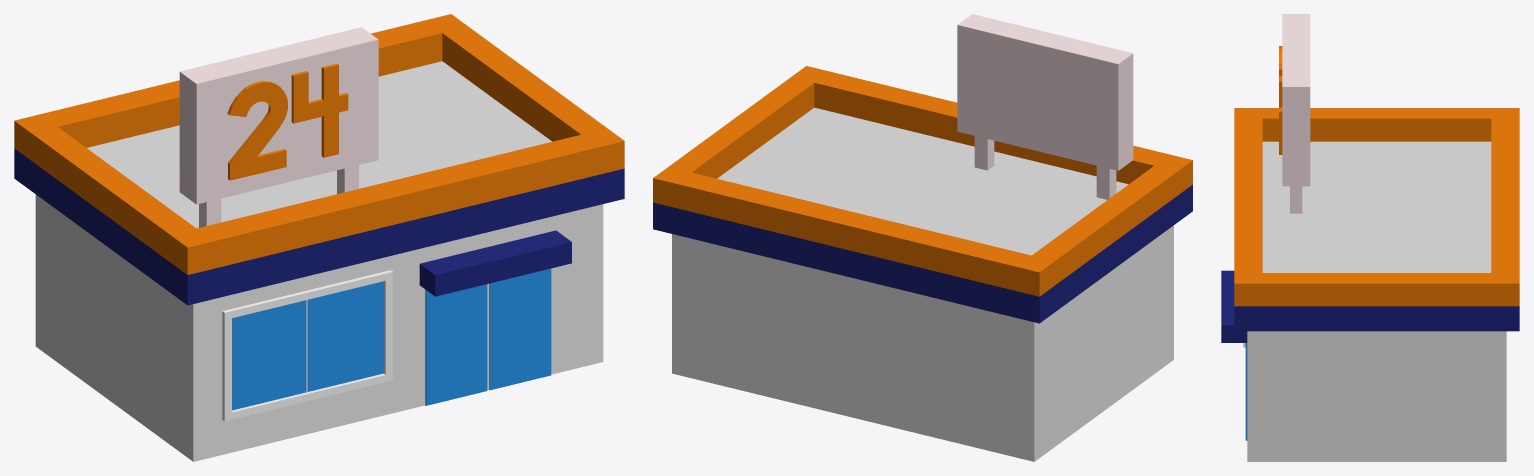
Rendered from convenience_store.gltf.
3 renders of one model, left to right at view 1: azimuth 30°, elevation 25°; view 2: azimuth 150°, elevation 25°; view 3: azimuth 270°, elevation 25°, orthographic. The views are drawn at different scales.
Parts seen in each view (by area): view 1: Plane.227; view 2: Plane.227; view 3: Plane.227.
Boxes of the visible parts, <box> form: Plane.227: <box>14,14,624,461</box>; Plane.227: <box>653,14,1192,461</box>; Plane.227: <box>1221,14,1519,461</box>.
Bounding box in the file's own units: 2.11 × 1.64 × 1.52.
1 material, 1 textured.
